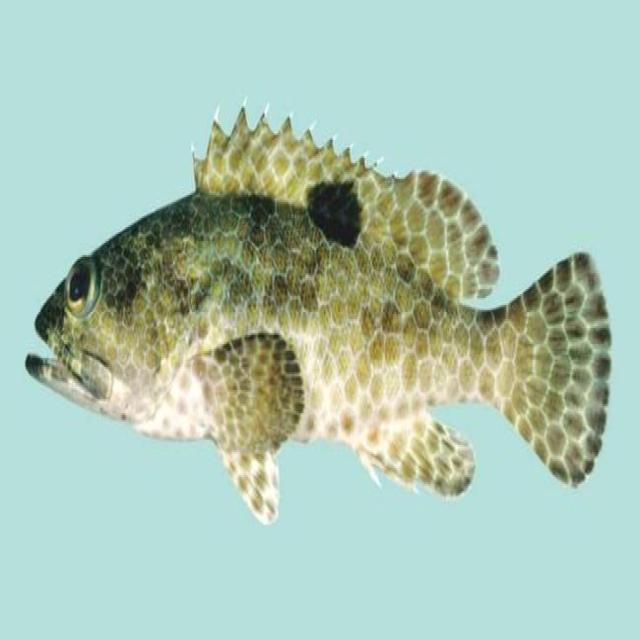ikan: (25, 97, 612, 525)
